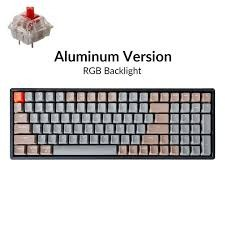keyboard: (7, 88, 218, 160)
